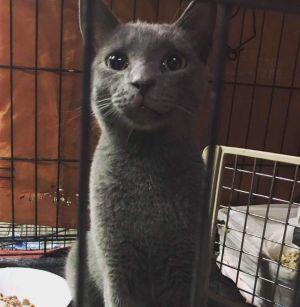rblue: (71, 1, 221, 156)
